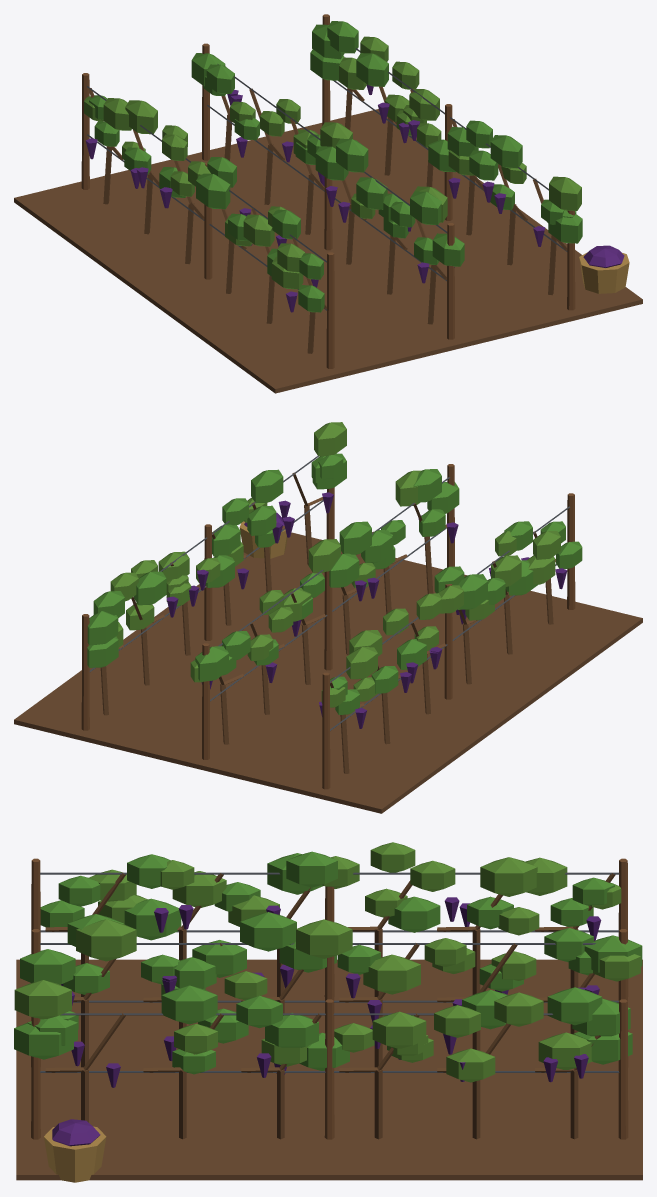
Rendered from vineyard.glb.
3 views of the same model, one above another, from view 1: azimuth 30°, elevation 25°; view 2: azimuth 150°, elevation 25°; view 3: azimuth 270°, elevation 25° (orthographic). The views are drawn at different scales.
Visible parts, largest first — view 1: farm_vineyard; view 2: farm_vineyard; view 3: farm_vineyard.
Part boxes in pixels (x1,y1,x2,y2): farm_vineyard: (14, 14, 642, 393); farm_vineyard: (14, 422, 642, 813); farm_vineyard: (14, 842, 642, 1182).
Size of the model in its own units: 5.32 by 1.82 by 6.42.
